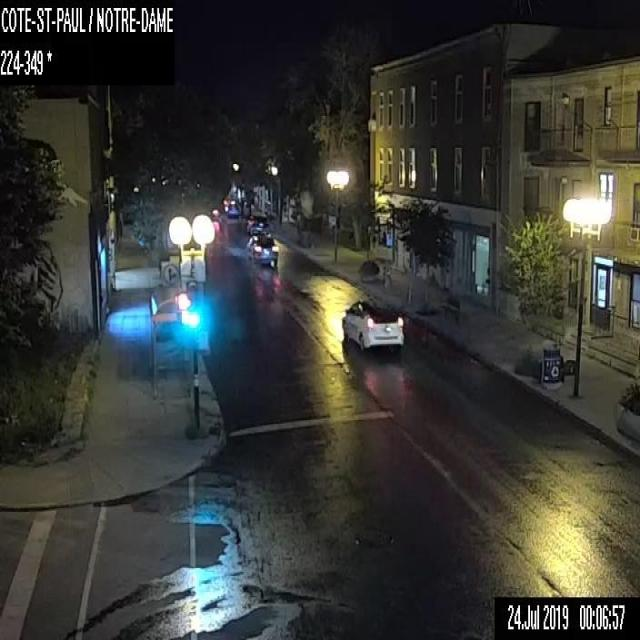vehicle: (341, 299, 403, 351), (245, 233, 278, 266), (246, 212, 268, 234), (224, 199, 238, 216)
